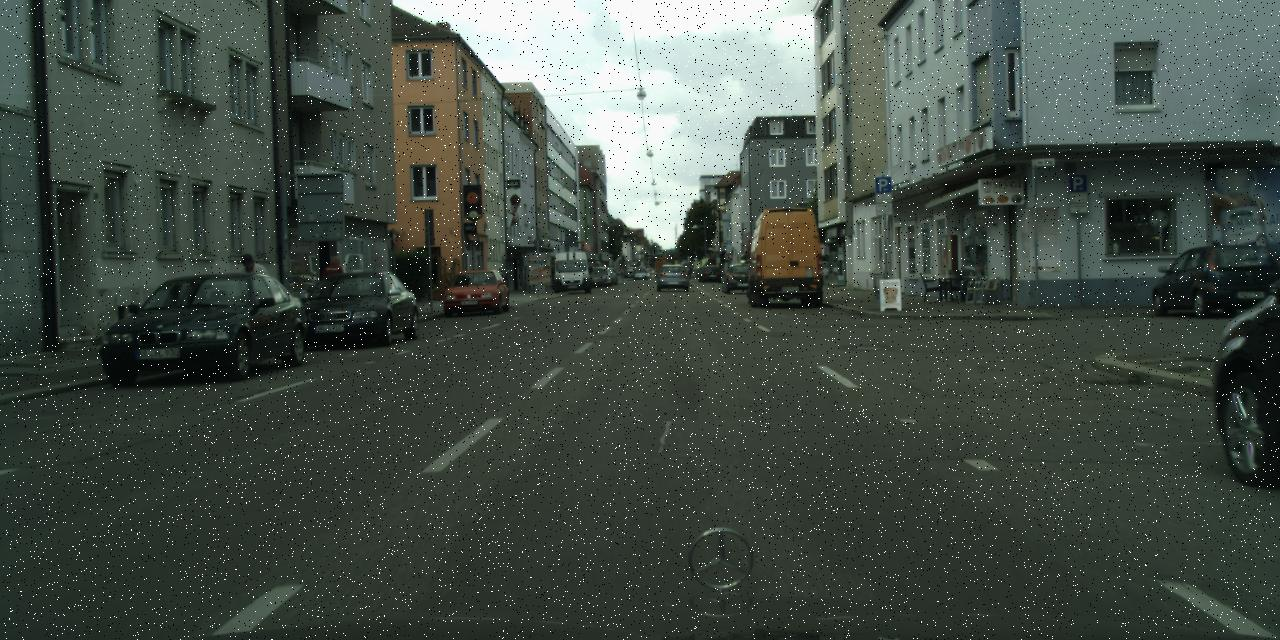ped: (238, 253, 266, 323), (323, 255, 346, 313)
